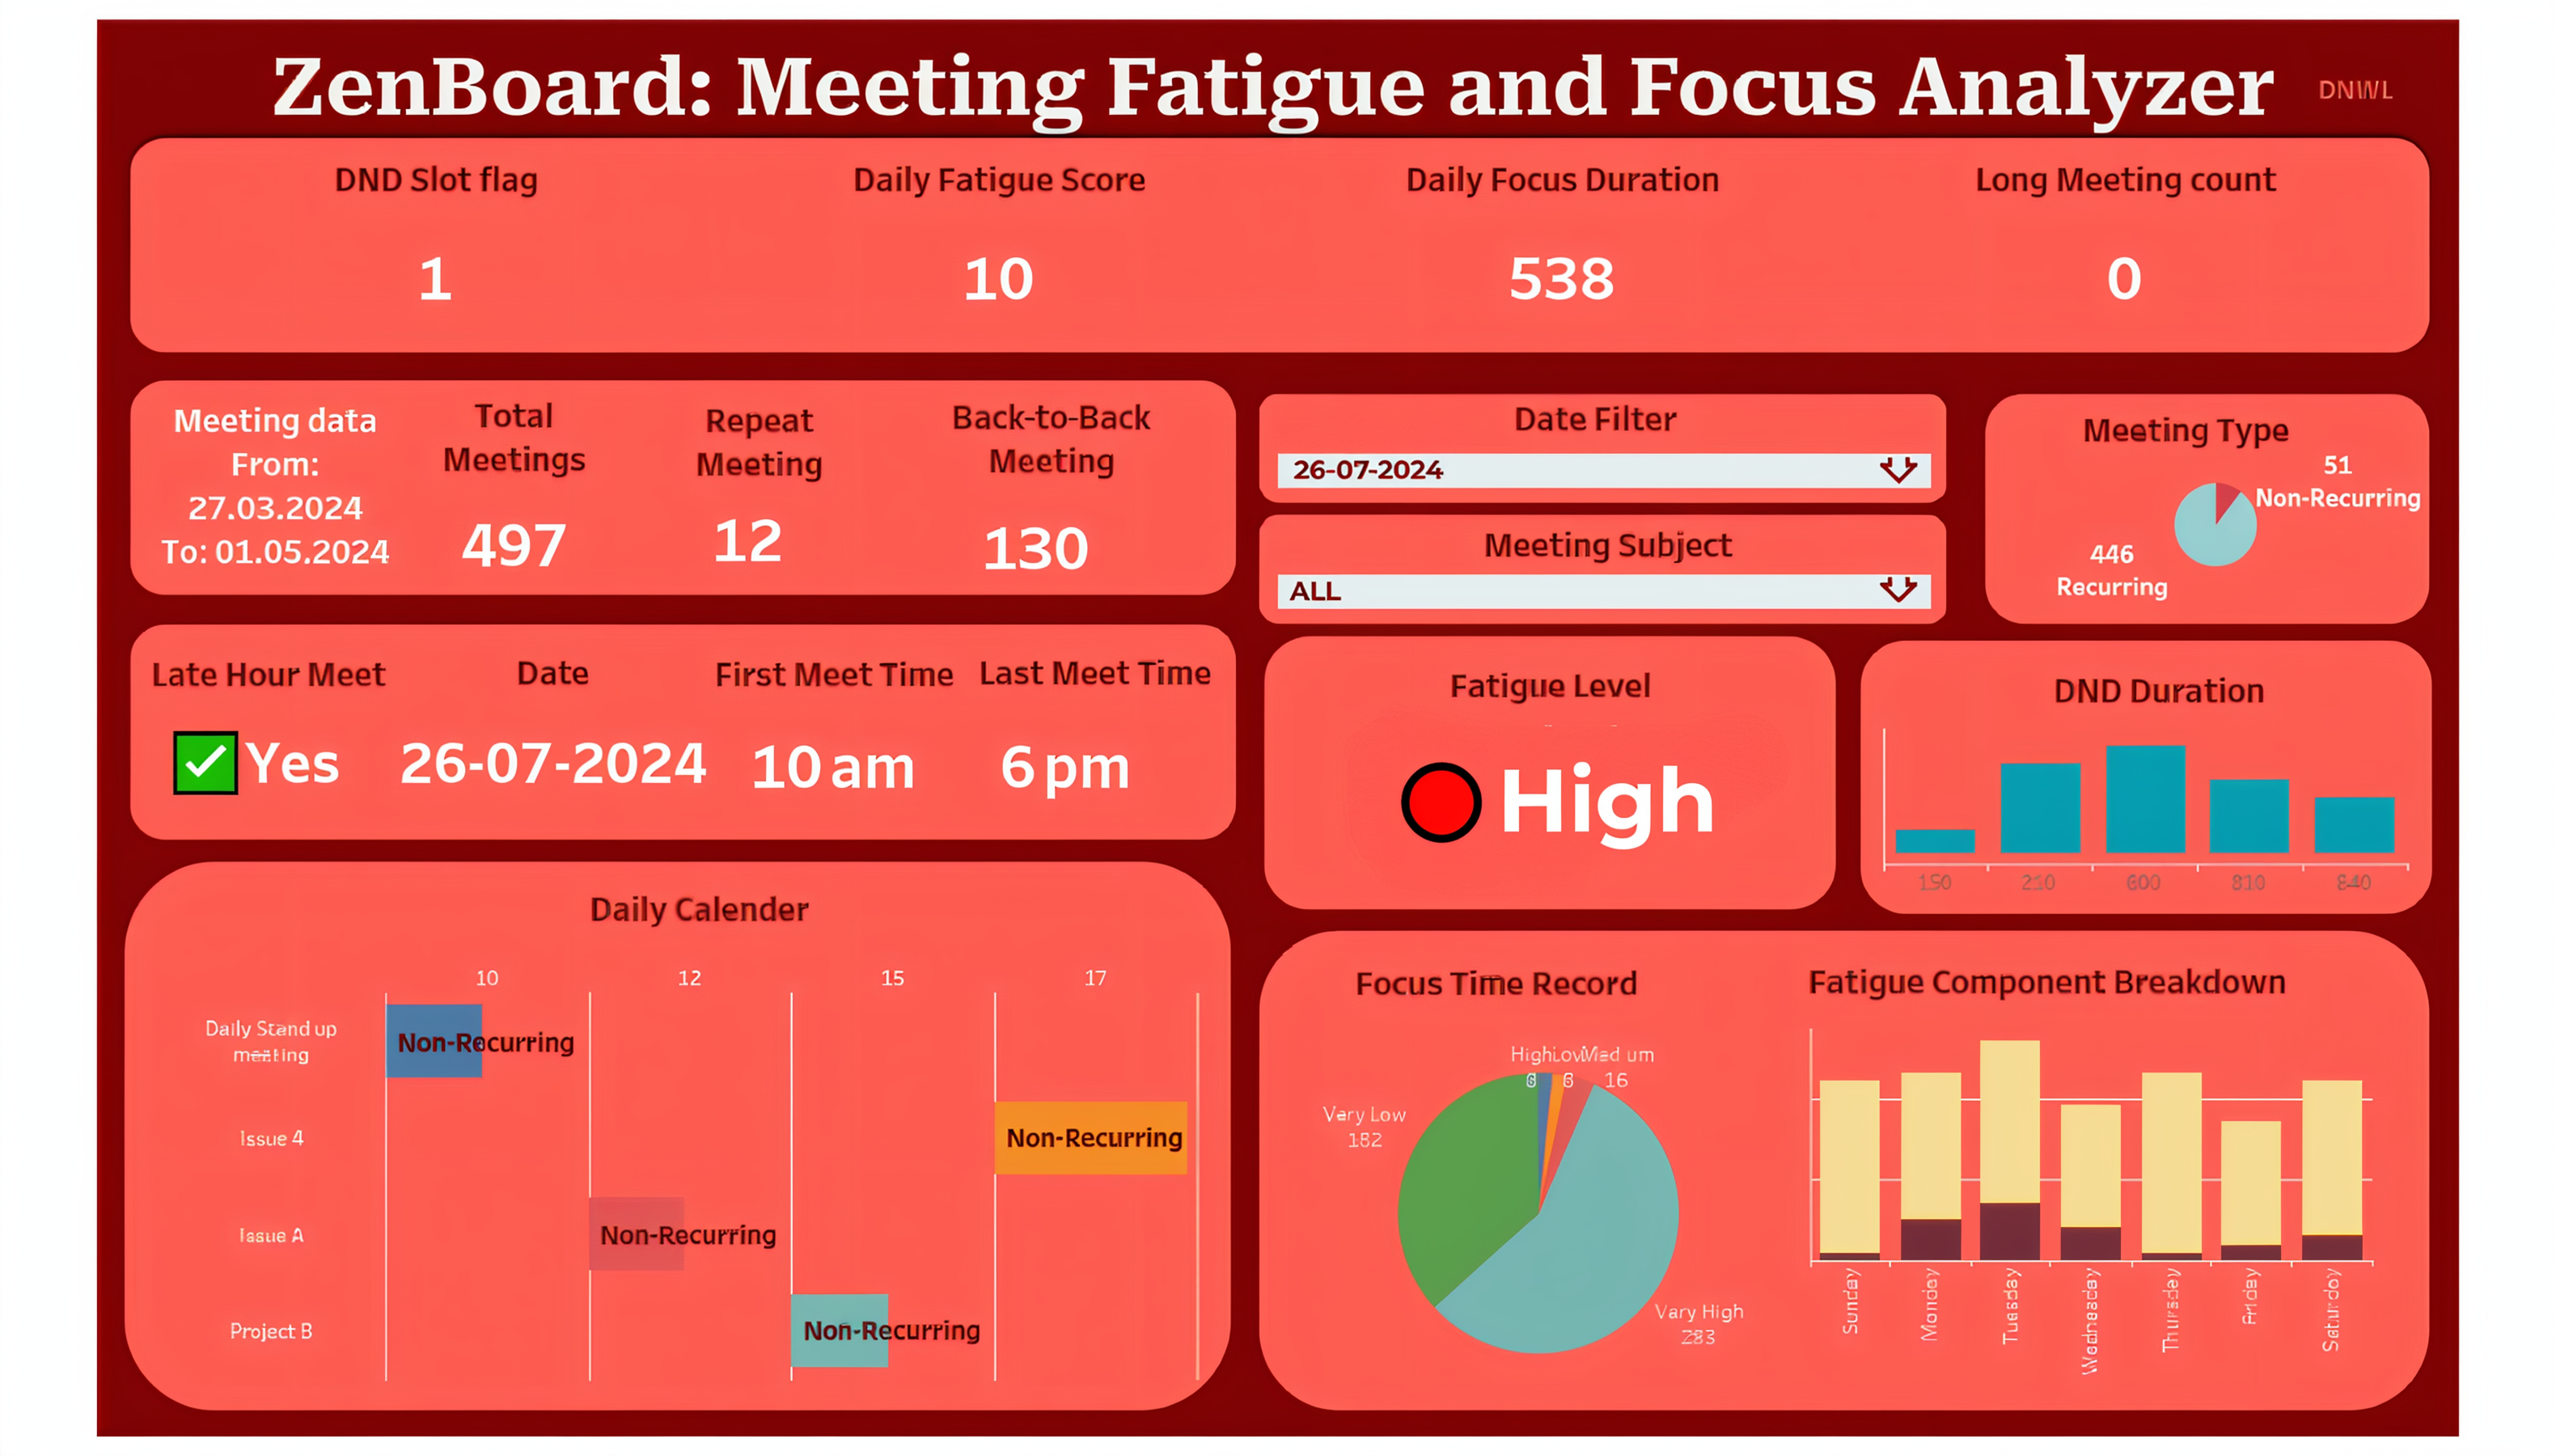

The page's visual inventory and layout, read from the dashboard file:
{"tool":"tableau","page":{"name":"Dashboard 1","canvas":[1580,900],"ordinal":0},"visuals":[{"type":"image","param":"C:/Users/yasha/Downloads/Untitled presentation.png","box":[8,8,1564,884]},{"type":"dashboard-object","box":[1416,34,80,41]},{"type":"worksheet","title":"Sheet 5","mark":"Text","box":[96,90,1392,121]},{"type":"text","box":[549,224,202,93]},{"type":"text","box":[1267,228,168,74]},{"type":"text","box":[226,232,184,74]},{"type":"text","box":[388,235,163,74]},{"type":"text","box":[96,237,149,125]},{"type":"text","box":[933,243,106,30]},{"type":"worksheet","title":"Sheet 4","mark":"Pie","box":[1241,273,257,103]},{"type":"worksheet","title":"Sheet 12","mark":"Automatic","box":[433,292,88,83]},{"type":"worksheet","title":"Sheet 9","mark":"Automatic","box":[601,297,101,74]},{"type":"text","box":[910,305,168,62]},{"type":"worksheet","title":"Sheet 8","mark":"Automatic","box":[279,310,185,80]},{"type":"text","box":[867,381,183,84]},{"type":"text","box":[288,384,108,62]},{"type":"text","box":[598,384,158,62]},{"type":"text","box":[439,385,162,62]},{"type":"text","box":[1249,389,171,74]},{"type":"text","box":[91,395,155,42]},{"type":"worksheet","title":"Sheet 13","mark":"Automatic","box":[55,406,193,111]},{"type":"worksheet","title":"Sheet 6","mark":"Automatic","box":[833,429,243,134]},{"type":"worksheet","title":"Sheet 15","mark":"Automatic","box":[243,431,207,85]},{"type":"worksheet","title":"Sheet 11","mark":"Automatic","box":[456,432,155,114]},{"type":"worksheet","title":"Sheet 14","mark":"Automatic","box":[609,432,140,107]},{"type":"worksheet","title":"Sheet 7","mark":"Bar","rows":["Start Date"],"cols":["Calculation_443041633803968526"],"box":[1164,451,324,104]},{"type":"text","box":[344,524,177,74]},{"type":"text","box":[1115,569,368,74]},{"type":"text","box":[835,570,224,74]},{"type":"worksheet","title":"Sheet 1","mark":"GanttBar","rows":["Subject"],"cols":["Start Time"],"box":[98,594,643,259]},{"type":"worksheet","title":"Sheet 3","mark":"Bar","cols":["Start Date"],"box":[1119,636,347,223]},{"type":"worksheet","title":"Sheet 2","mark":"Pie","box":[799,641,304,218]}]}

Visuals, with their boxes in screenshot pixels (x1, y1, x2, y2), scaled from the page's 1580x900 canvas onto the 2556x1456 screenshot:
image: x1=13, y1=13, x2=2543, y2=1443
dashboard-object: x1=2291, y1=55, x2=2420, y2=121
"Sheet 5" worksheet (Text marks): x1=155, y1=146, x2=2407, y2=341
text: x1=888, y1=362, x2=1215, y2=513
text: x1=2050, y1=369, x2=2321, y2=489
text: x1=366, y1=375, x2=663, y2=495
text: x1=628, y1=380, x2=891, y2=500
text: x1=155, y1=383, x2=396, y2=586
text: x1=1509, y1=393, x2=1681, y2=442
"Sheet 4" worksheet (Pie marks): x1=2008, y1=442, x2=2423, y2=608
"Sheet 12" worksheet: x1=700, y1=472, x2=843, y2=607
"Sheet 9" worksheet: x1=972, y1=480, x2=1136, y2=600
text: x1=1472, y1=493, x2=1744, y2=594
"Sheet 8" worksheet: x1=451, y1=502, x2=751, y2=631
text: x1=1403, y1=616, x2=1699, y2=752
text: x1=466, y1=621, x2=641, y2=722
text: x1=967, y1=621, x2=1223, y2=722
text: x1=710, y1=623, x2=972, y2=723
text: x1=2021, y1=629, x2=2297, y2=749
text: x1=147, y1=639, x2=398, y2=707
"Sheet 13" worksheet: x1=89, y1=657, x2=401, y2=836
"Sheet 6" worksheet: x1=1348, y1=694, x2=1741, y2=911
"Sheet 15" worksheet: x1=393, y1=697, x2=728, y2=835
"Sheet 11" worksheet: x1=738, y1=699, x2=988, y2=883
"Sheet 14" worksheet: x1=985, y1=699, x2=1212, y2=872
"Sheet 7" worksheet (Bar marks): x1=1883, y1=730, x2=2407, y2=898
text: x1=556, y1=848, x2=843, y2=967
text: x1=1804, y1=921, x2=2399, y2=1040
text: x1=1351, y1=922, x2=1713, y2=1042
"Sheet 1" worksheet (GanttBar marks): x1=159, y1=961, x2=1199, y2=1380
"Sheet 3" worksheet (Bar marks): x1=1810, y1=1029, x2=2372, y2=1390
"Sheet 2" worksheet (Pie marks): x1=1293, y1=1037, x2=1784, y2=1390
